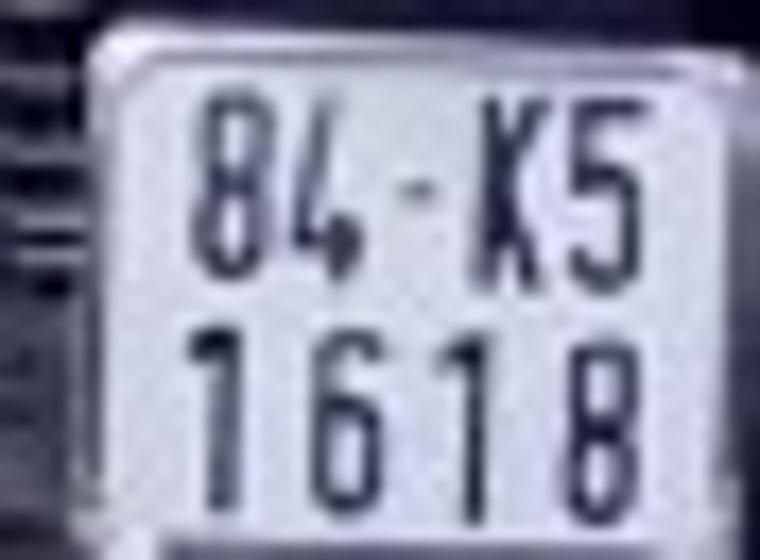.: (401, 174, 438, 212)
1: (186, 322, 253, 521), (432, 322, 496, 530)
4: (284, 96, 370, 286)
5: (567, 94, 657, 296)
6: (303, 322, 386, 520)
8: (557, 338, 642, 530), (187, 88, 271, 281)
K: (468, 90, 552, 300)
